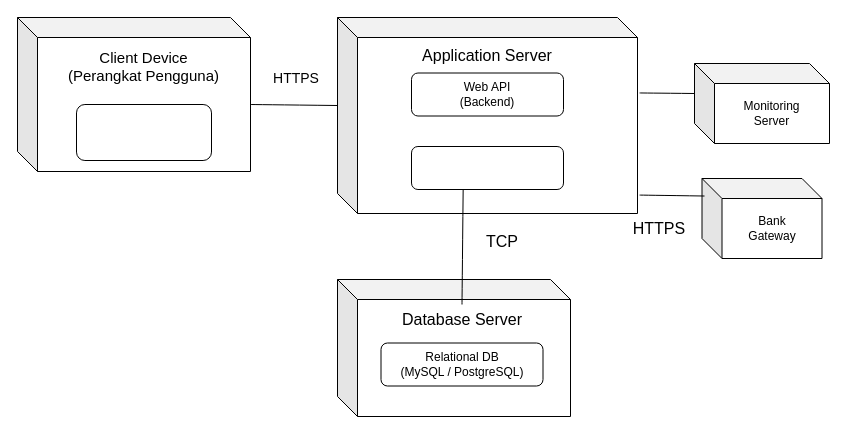
Some shapes in this 847 by 434 pixel diagram are drawn without their labels. The box of each missing label's shape, as (x1, y1, x2, y2) in pixels:
Payment Service (Java): (410, 146, 564, 190)
Web App/Mobile APP (Frontend): (76, 104, 212, 160)
